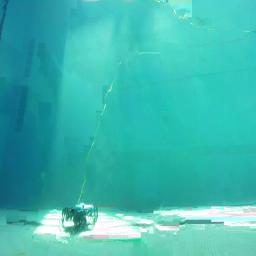Side: (62, 202, 98, 233)
